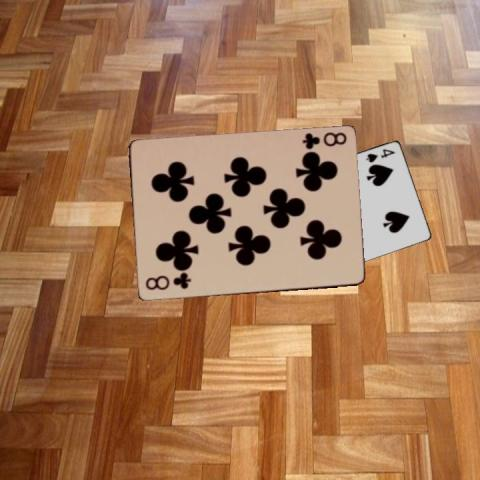4s: (362, 146, 396, 164)
8c: (299, 130, 348, 152), (142, 272, 192, 292)
